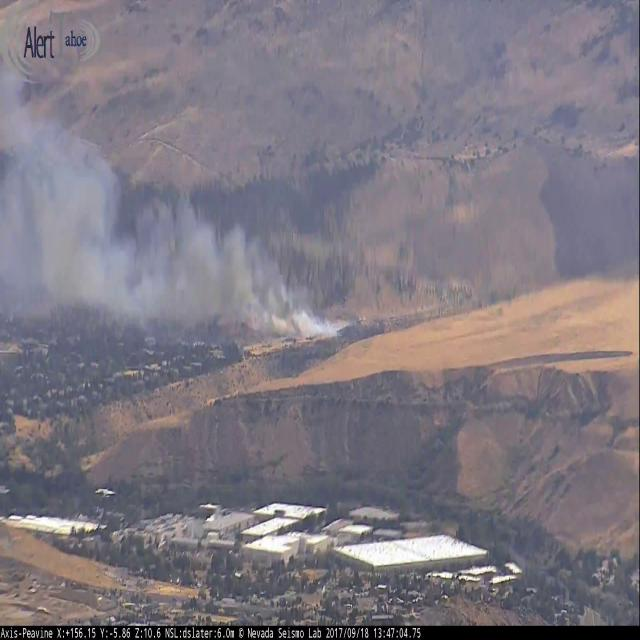smoke: (0, 85, 352, 359)
